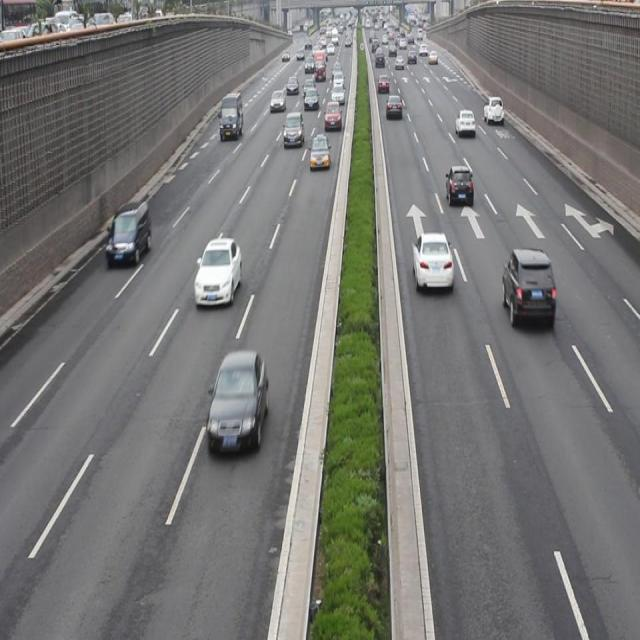car: (204, 346, 269, 454), (501, 245, 554, 326), (194, 236, 243, 306), (106, 200, 151, 265), (411, 230, 452, 290), (445, 163, 474, 207), (309, 133, 330, 169), (482, 94, 503, 125), (454, 106, 474, 135), (324, 100, 342, 130), (386, 93, 402, 119)
truck: (218, 92, 243, 140), (283, 112, 303, 146)
